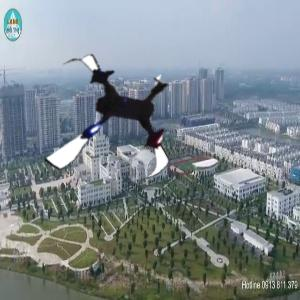drone: (35, 46, 188, 199)
